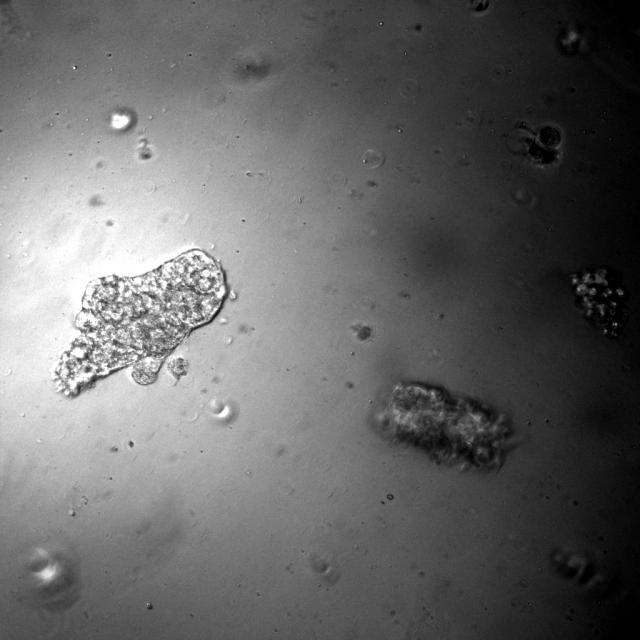organoid: (52, 249, 226, 395), (378, 382, 512, 468), (571, 267, 628, 338), (506, 122, 564, 167), (108, 106, 136, 132), (168, 357, 188, 379), (350, 323, 372, 341), (468, 0, 491, 16)
